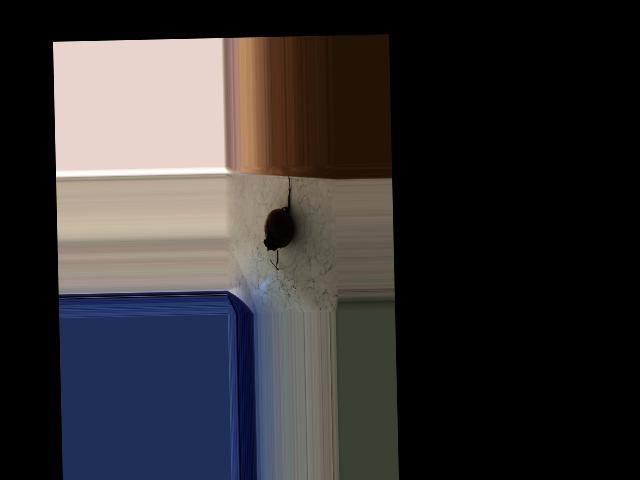beet: (263, 172, 294, 269)
